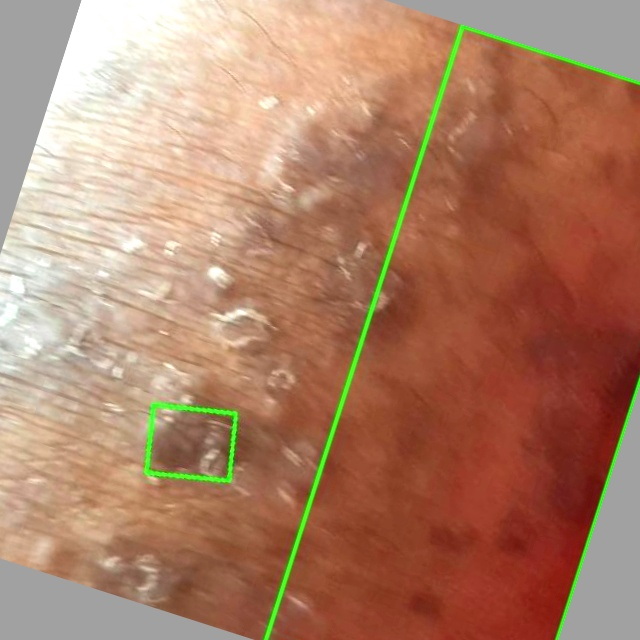Tinea Corporis: (266, 26, 639, 639), (146, 403, 235, 480)
